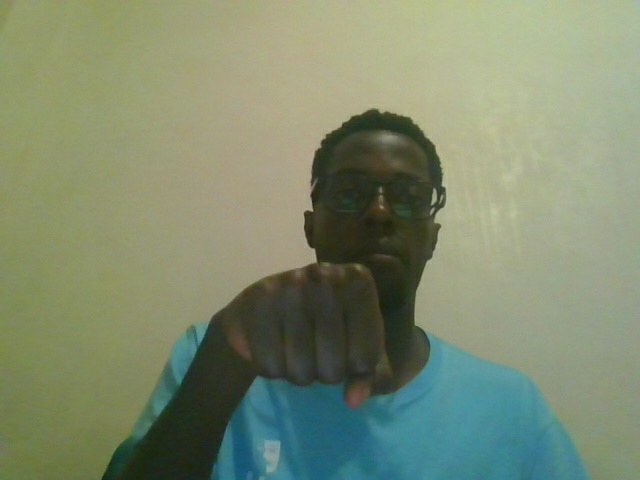Yes: (197, 255, 456, 426)
